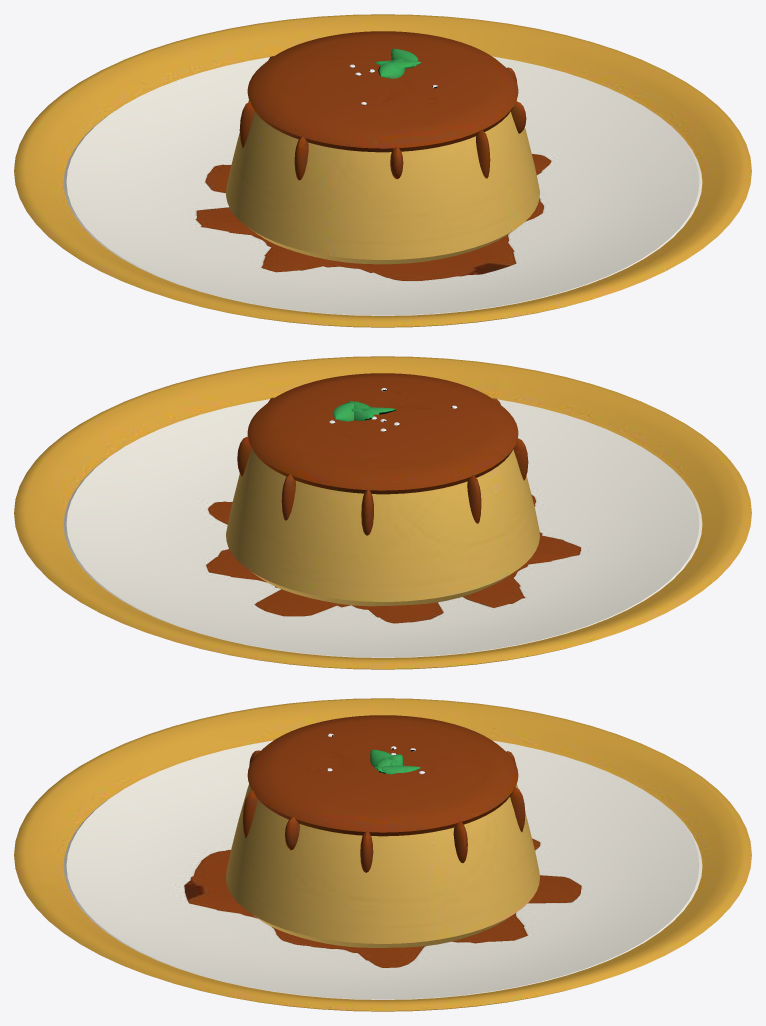
File: flan.glb
3 renders of one model, top to bottom at view 1: azimuth 30°, elevation 25°; view 2: azimuth 150°, elevation 25°; view 3: azimuth 270°, elevation 25°, orthographic.
Visible parts, largest first — view 1: flan_plato; view 2: flan_plato; view 3: flan_plato.
Boxes of the visible parts, x1,y1,x2,y2 form: flan_plato: (14,14,751,327); flan_plato: (14,356,751,669); flan_plato: (14,698,751,1011).
Bounding box in the file's own units: 0.4043 × 0.0925 × 0.4043.
1 material, 1 textured.
